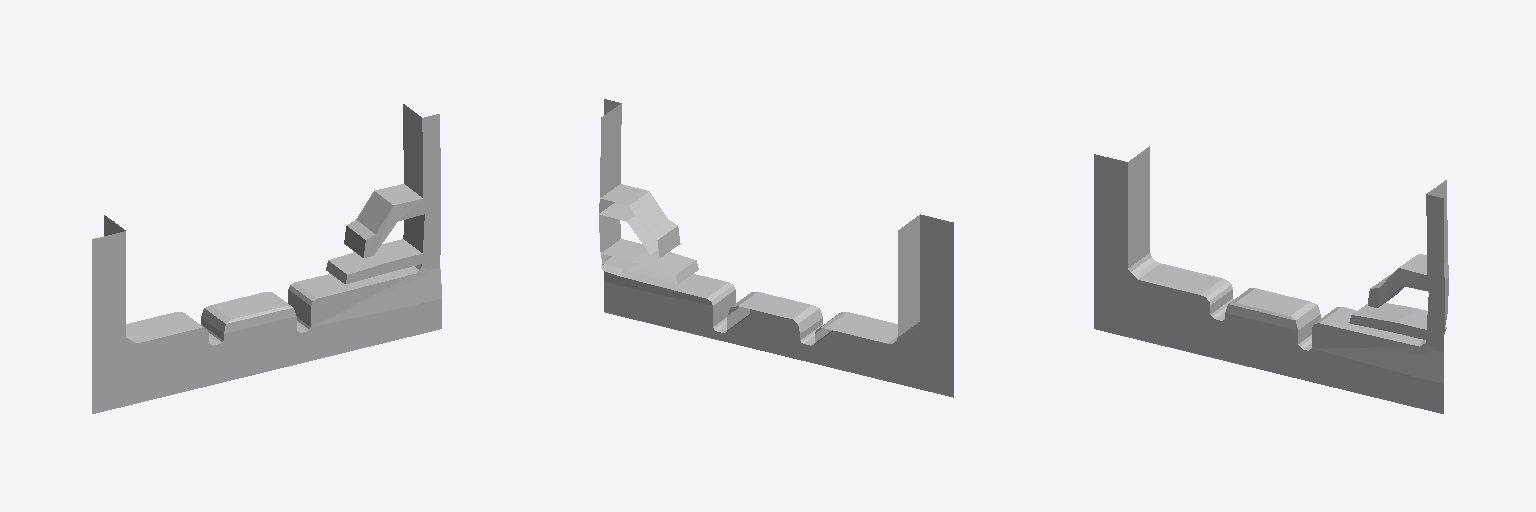
Rendered from Level00Outline.obj.
The picture shows the model from 3 angles: view 1: azimuth 30°, elevation 25°; view 2: azimuth 150°, elevation 25°; view 3: azimuth 330°, elevation 25°; orthographic projection.
Parts seen in each view (by area): view 1: Cube.001_Cube; view 2: Cube.001_Cube; view 3: Cube.001_Cube.
Part boxes in pixels (left/top/right/bottom): Cube.001_Cube: left=92, top=104, right=441, bottom=413; Cube.001_Cube: left=599, top=99, right=953, bottom=397; Cube.001_Cube: left=1094, top=146, right=1448, bottom=413.
Bounding box in the file's own units: 38.33 × 22.46 × 4.29.